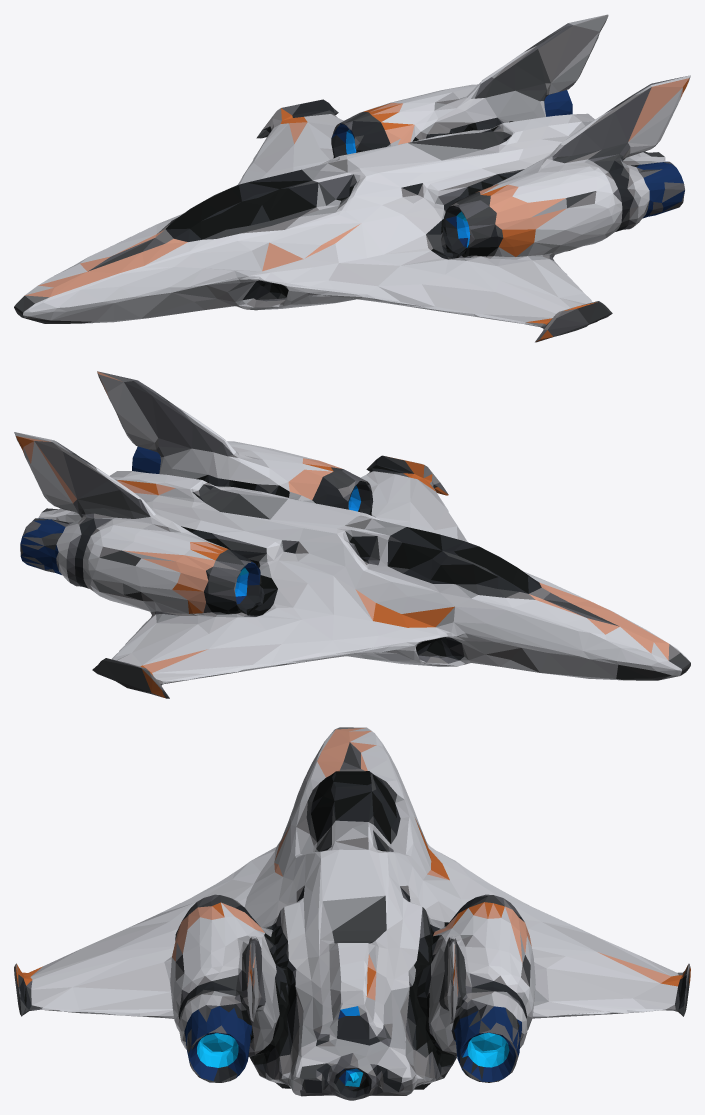
Rendered from low-poly-spaceship.glb.
The picture shows the model from 3 angles, top to bottom: view 1: azimuth 30°, elevation 25°; view 2: azimuth 150°, elevation 25°; view 3: azimuth 270°, elevation 25°; orthographic projection. The views are drawn at different scales.
Parts seen in each view (by area): view 1: low-poly-spaceship; view 2: low-poly-spaceship; view 3: low-poly-spaceship.
Part boxes in pixels (x1,y1,x2,y2): low-poly-spaceship: [14, 14, 690, 342]; low-poly-spaceship: [14, 371, 690, 698]; low-poly-spaceship: [14, 727, 690, 1100].
Size of the model in its own units: 13.98 by 3.34 by 10.75.
Materials: 1 (1 with a texture image).
